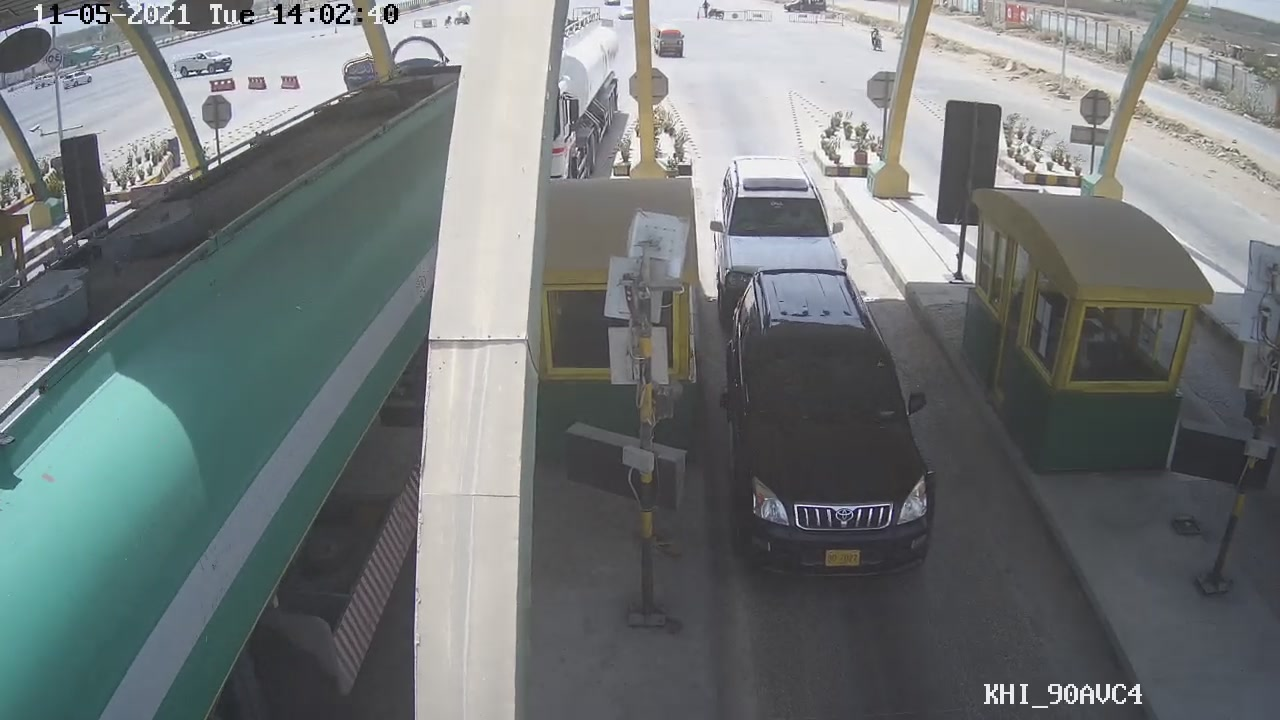F1: (713, 257, 944, 592)
